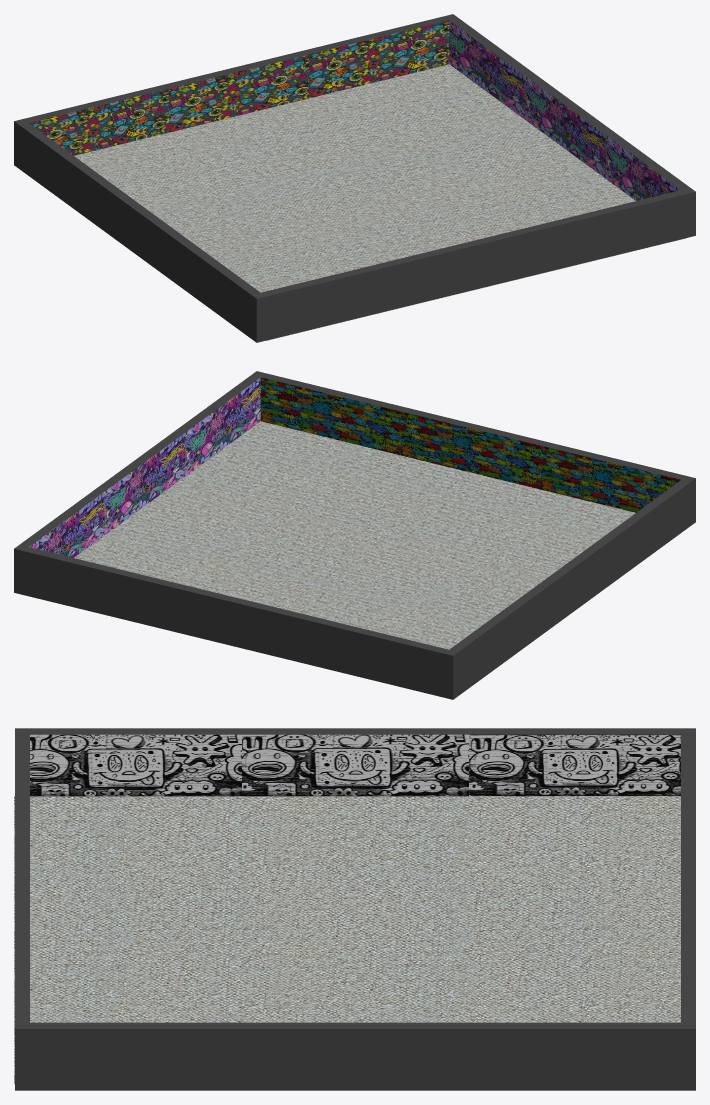
The model's file is border_box.dae.
3 views of the same model, one above another, from view 1: azimuth 30°, elevation 25°; view 2: azimuth 150°, elevation 25°; view 3: azimuth 270°, elevation 25° (orthographic). The views are drawn at different scales.
Visible parts, largest first — view 1: Plane.018; view 2: Plane.018; view 3: Plane.018.
Boxes of the visible parts, x1=… form: Plane.018: x1=14, y1=14, x2=695, y2=342; Plane.018: x1=14, y1=371, x2=695, y2=699; Plane.018: x1=14, y1=728, x2=695, y2=1090.
Bounding box in the file's own units: 4.7 × 4.51 × 0.45.
Materials: 6 (5 with a texture image).
